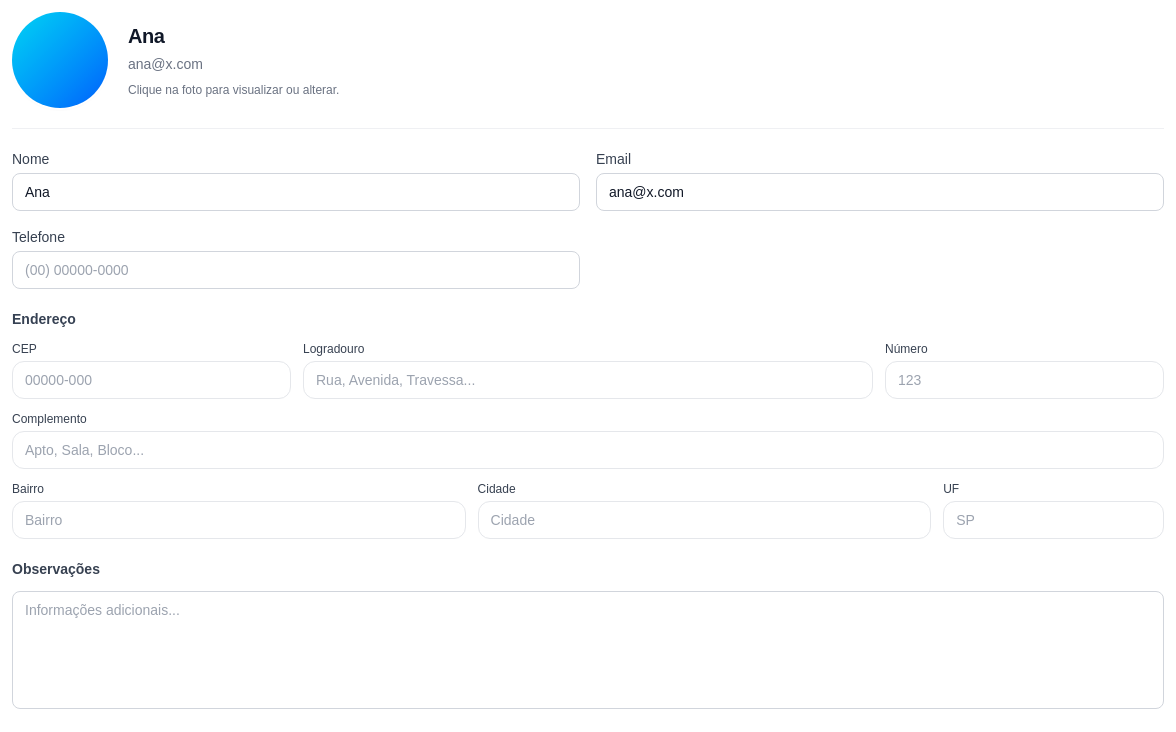
Test case: ProfileForm › acusa e-mail inválido ao sair do campo
This screenshot has width=1176, height=732.
Replace the text in the field labelled "Email" with "ana @x" at (880, 192), box [596,173,1164,211]
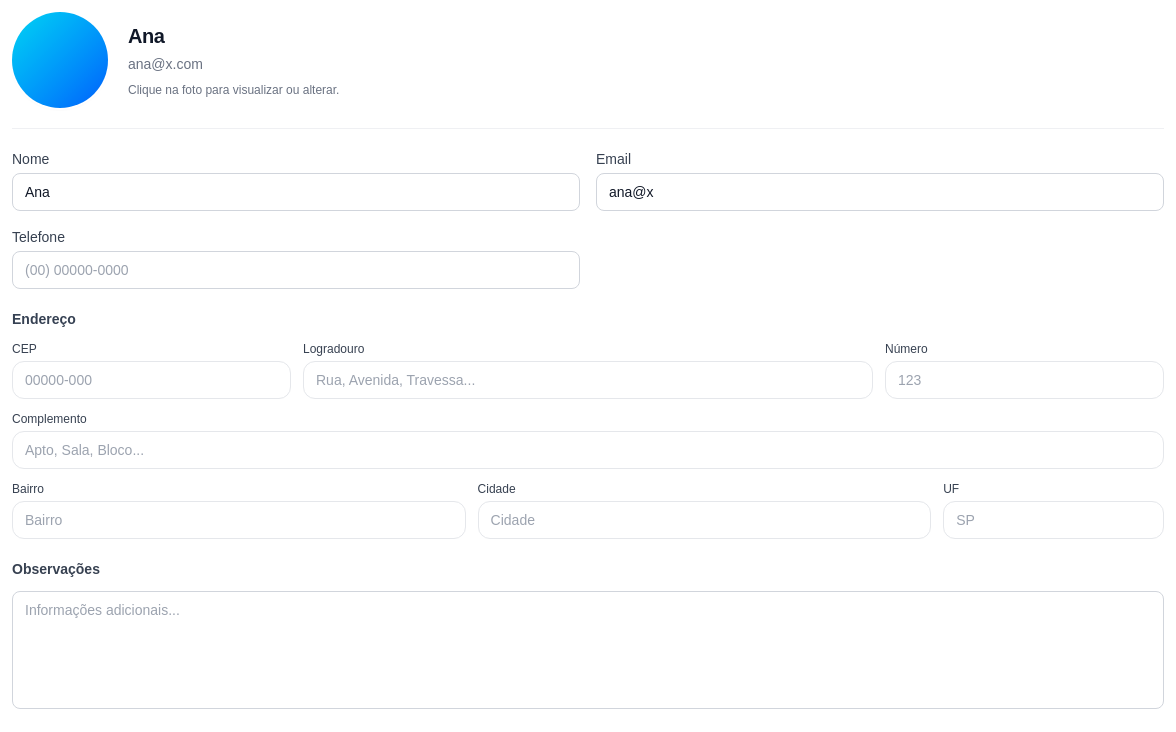
Expected: the field labelled "Email" holds "ana@x"
Leave the field labelled "Email", box [596,173,1164,211]
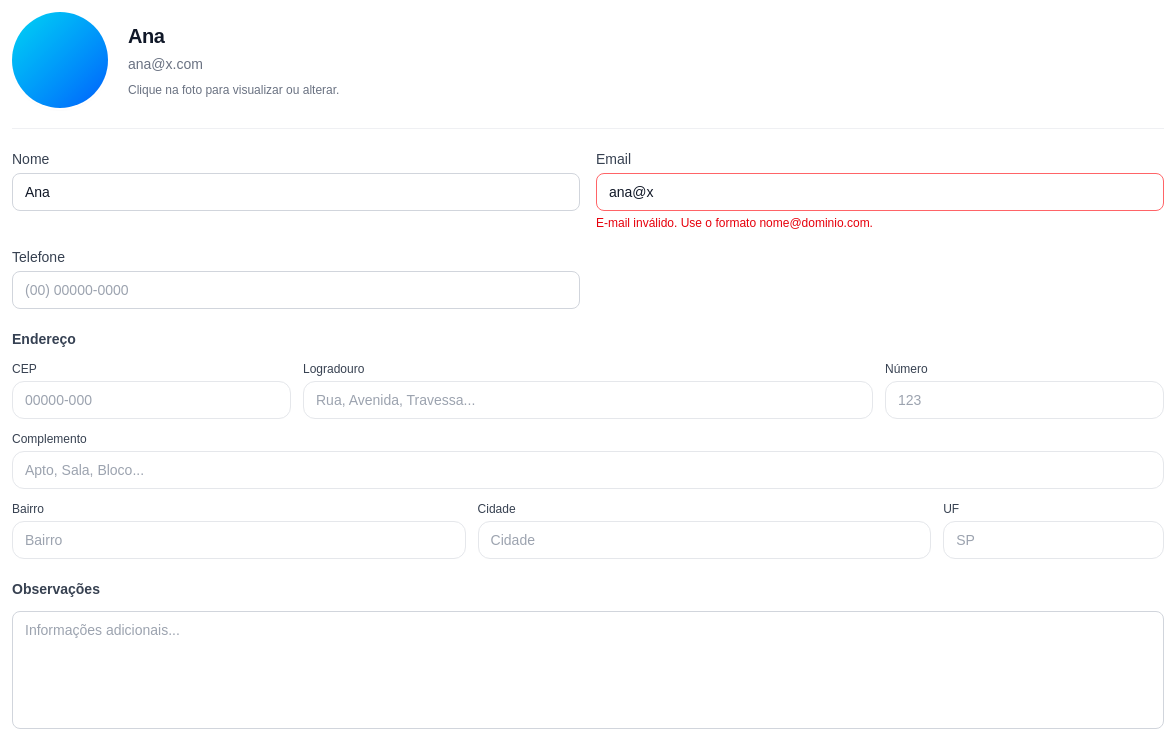
Expected: the text "E-mail inválido. Use o formato nome@dominio.com." is shown, [596,216,873,230]
